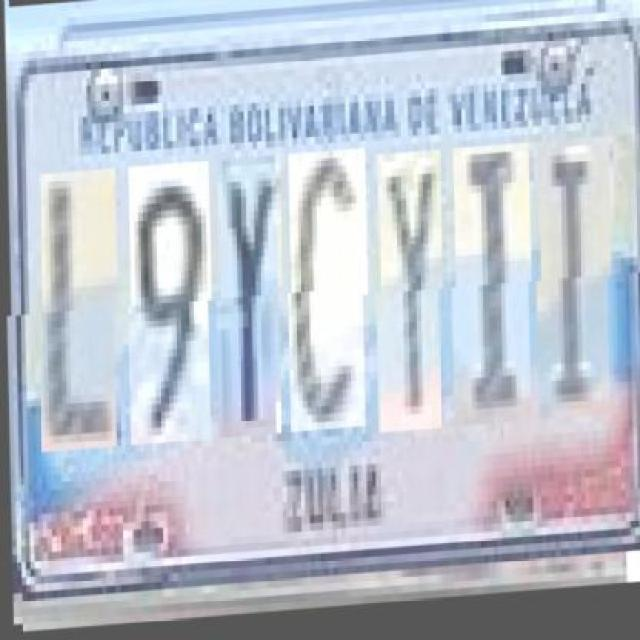9: (128, 164, 212, 447)
c: (288, 154, 368, 437)
i: (452, 152, 532, 434), (536, 146, 613, 429)
l: (39, 170, 119, 453)
y: (216, 160, 284, 442), (376, 157, 444, 438)
